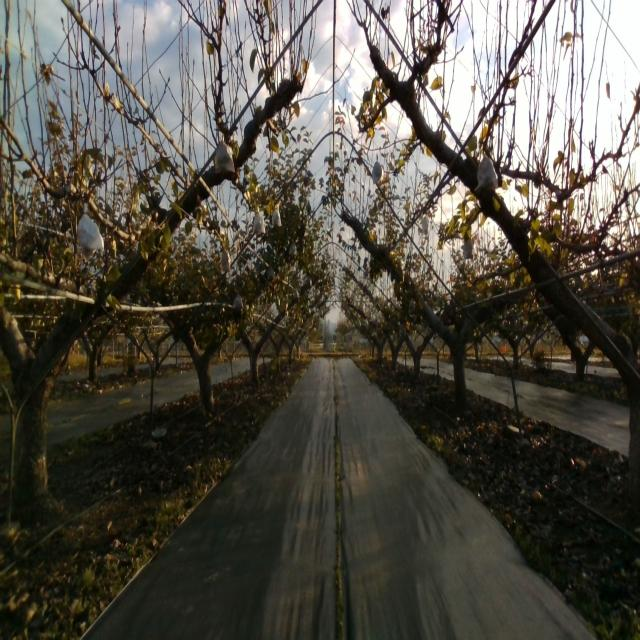pearbags: (77, 202, 104, 252), (474, 152, 499, 193), (215, 134, 235, 174), (251, 206, 266, 236), (372, 154, 382, 185), (463, 237, 475, 260), (272, 210, 282, 228)
